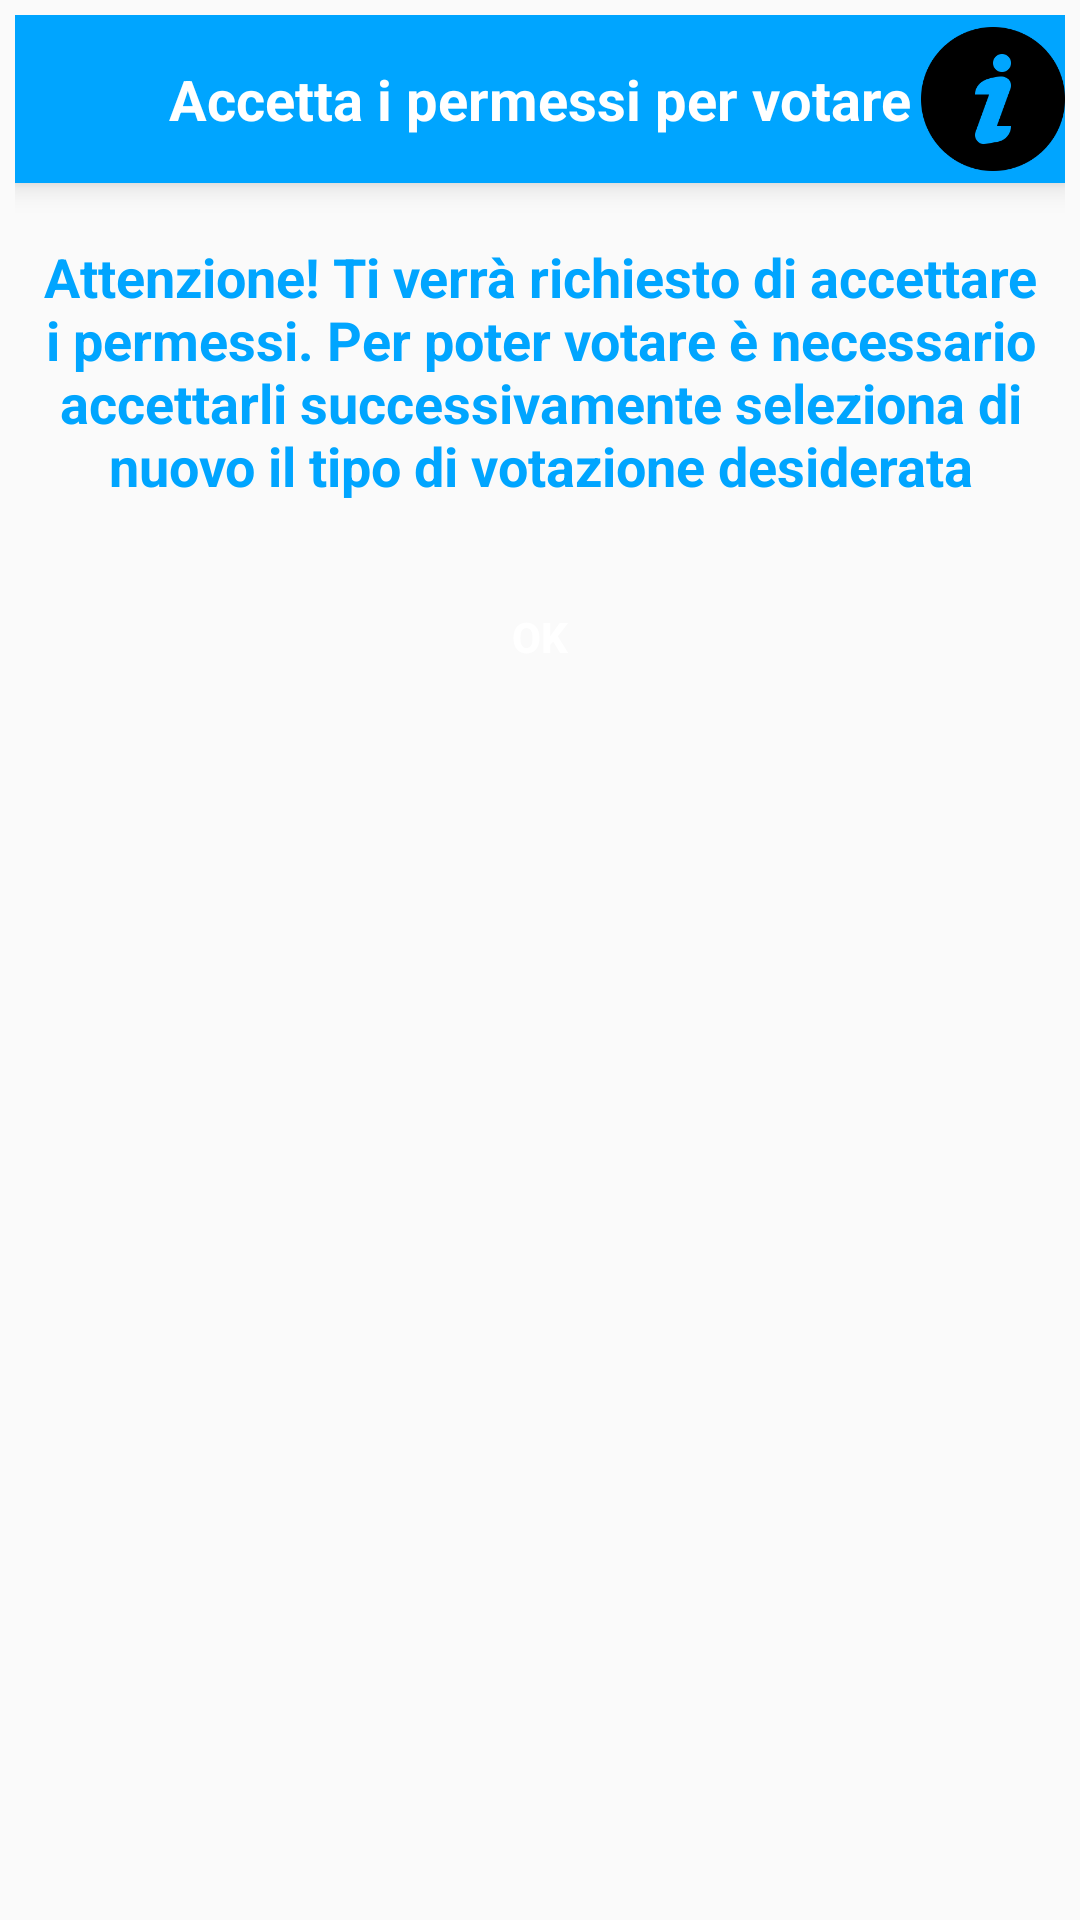

Icons on this 1080px x 1920px Android screen, each with the point to tap as (x=x, y=y):
information: (x=993, y=99)
